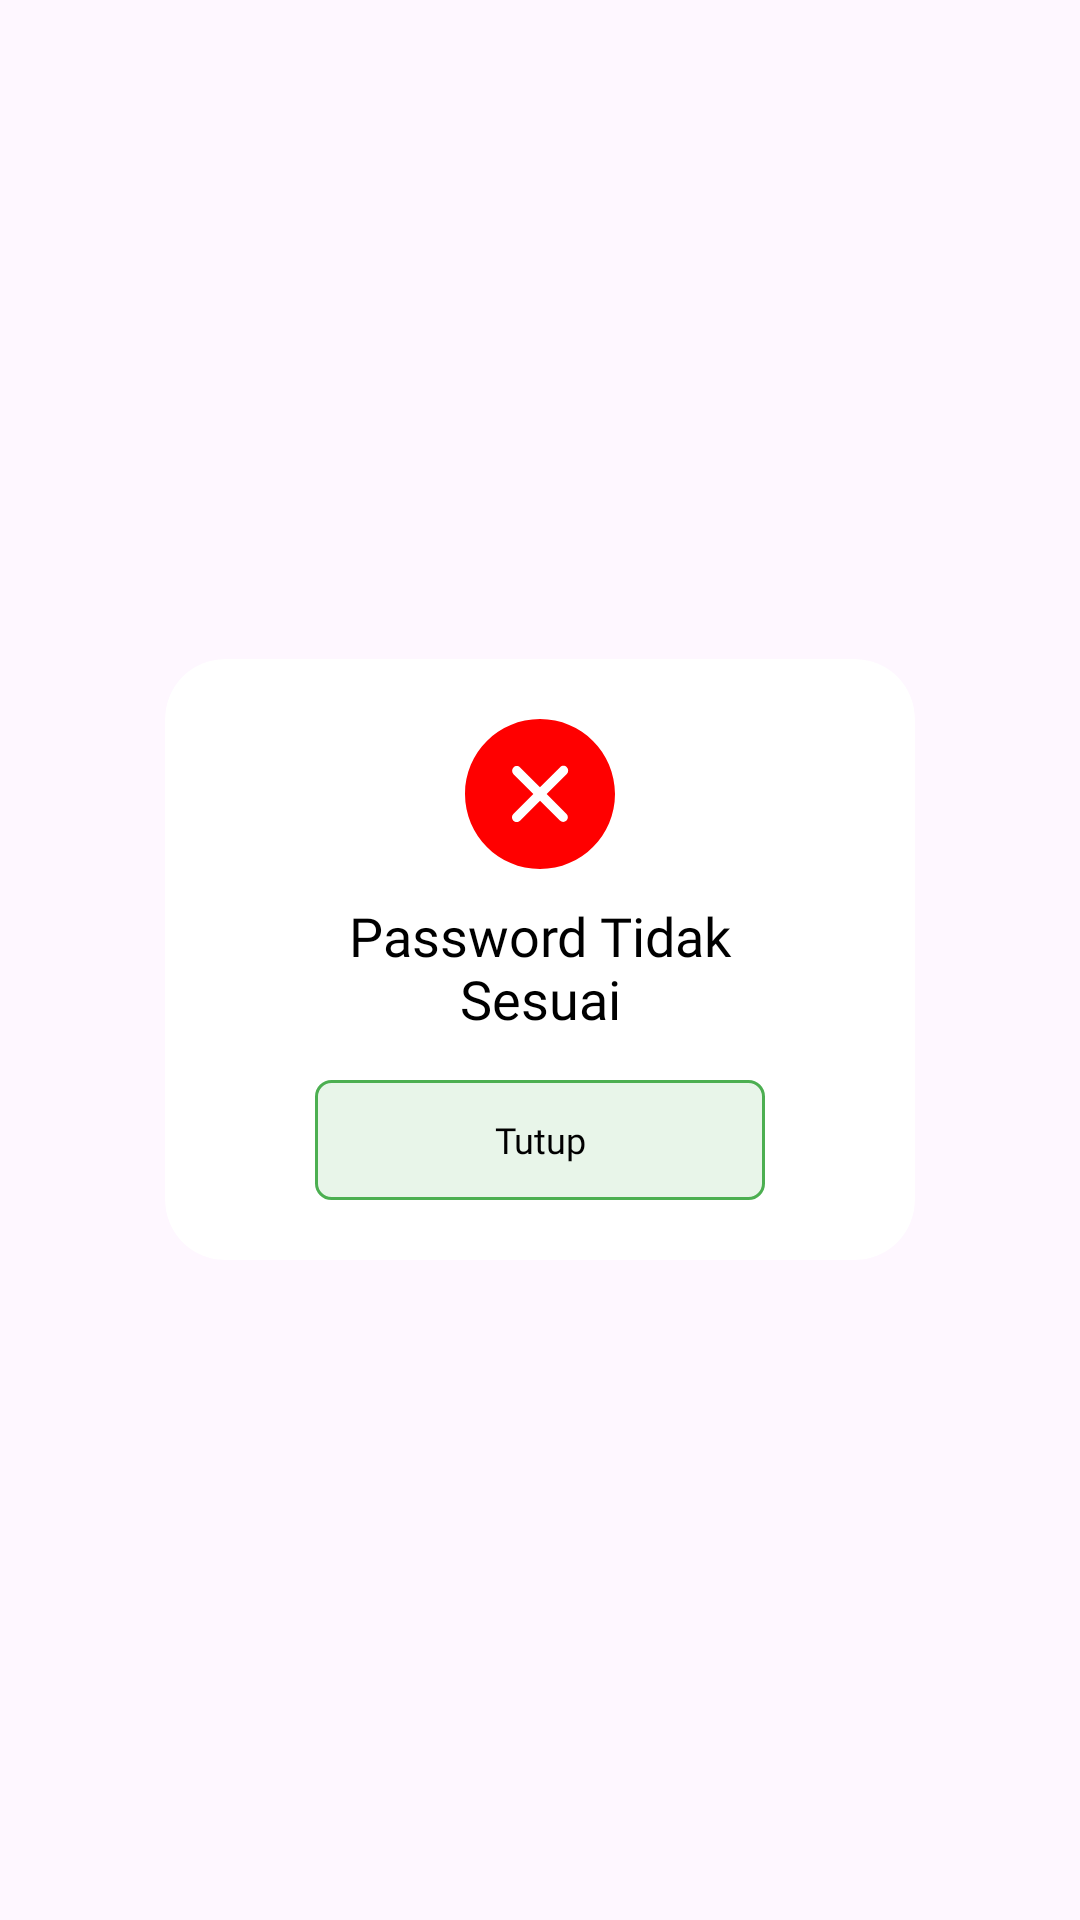

Screen size 1080*1920. Icon name, then its box in pixels as box(x1, y1, x2, y2):
cross: box(465, 719, 615, 869)
